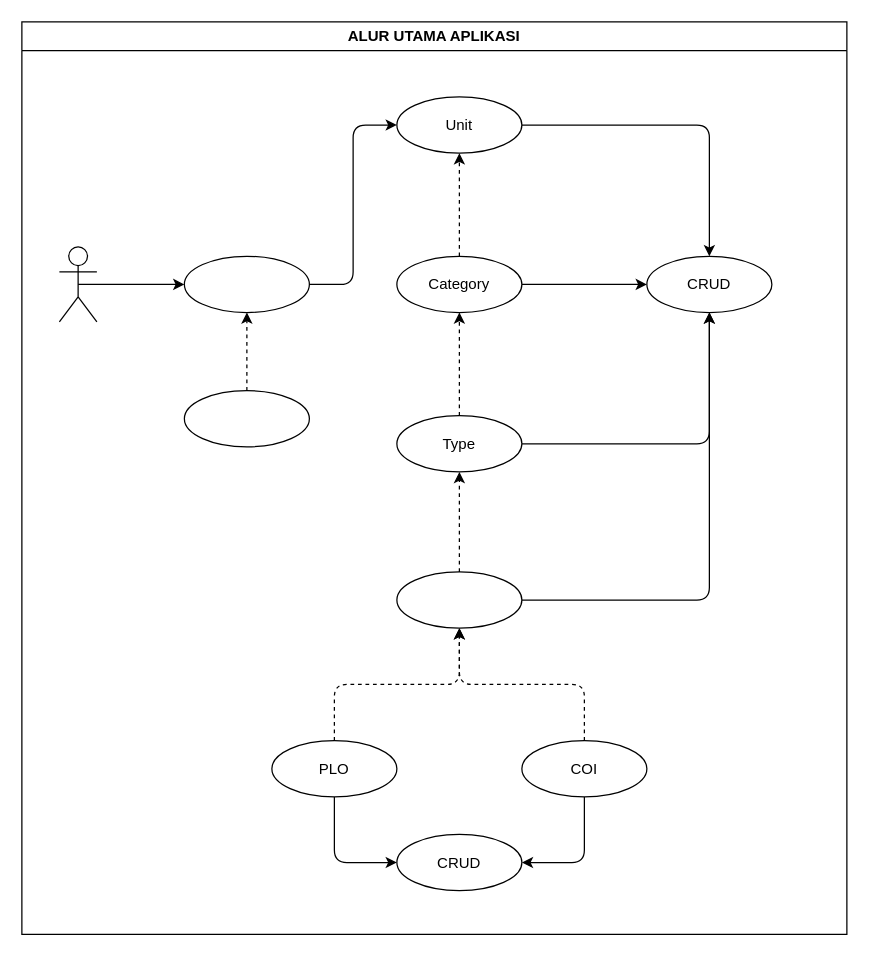
This 869x956 diagram has some shape labels left out. Each missing label, with the centre of its shape:
Login: point (246, 283)
Logout: point (246, 418)
Tag Number: point (459, 599)
Users: point (77, 284)
